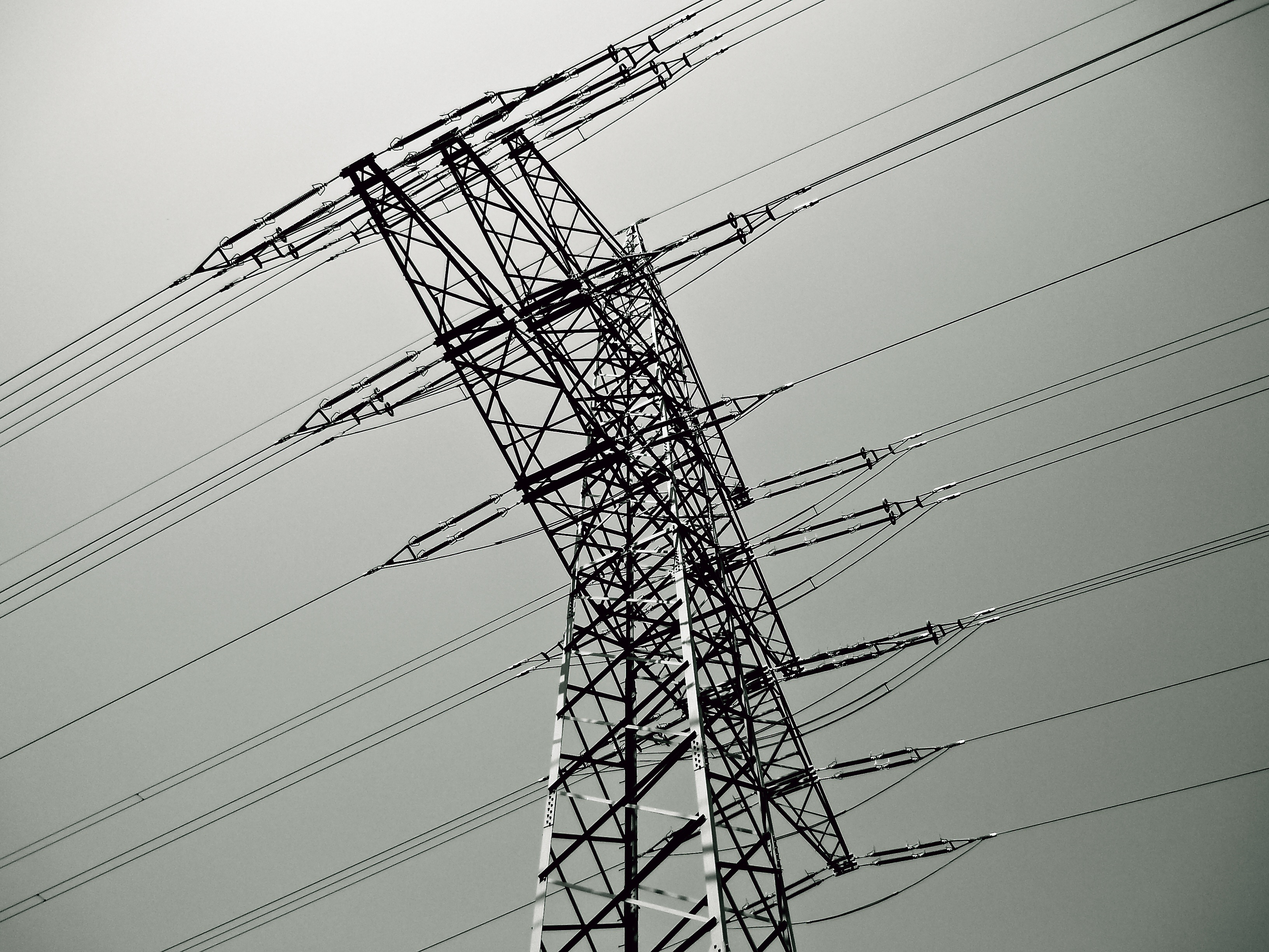insulator: (530, 35, 663, 140), (208, 180, 329, 279), (748, 436, 900, 508), (756, 489, 906, 560), (311, 344, 428, 432), (784, 617, 936, 680), (398, 494, 508, 569), (820, 737, 941, 779), (868, 834, 959, 866)
